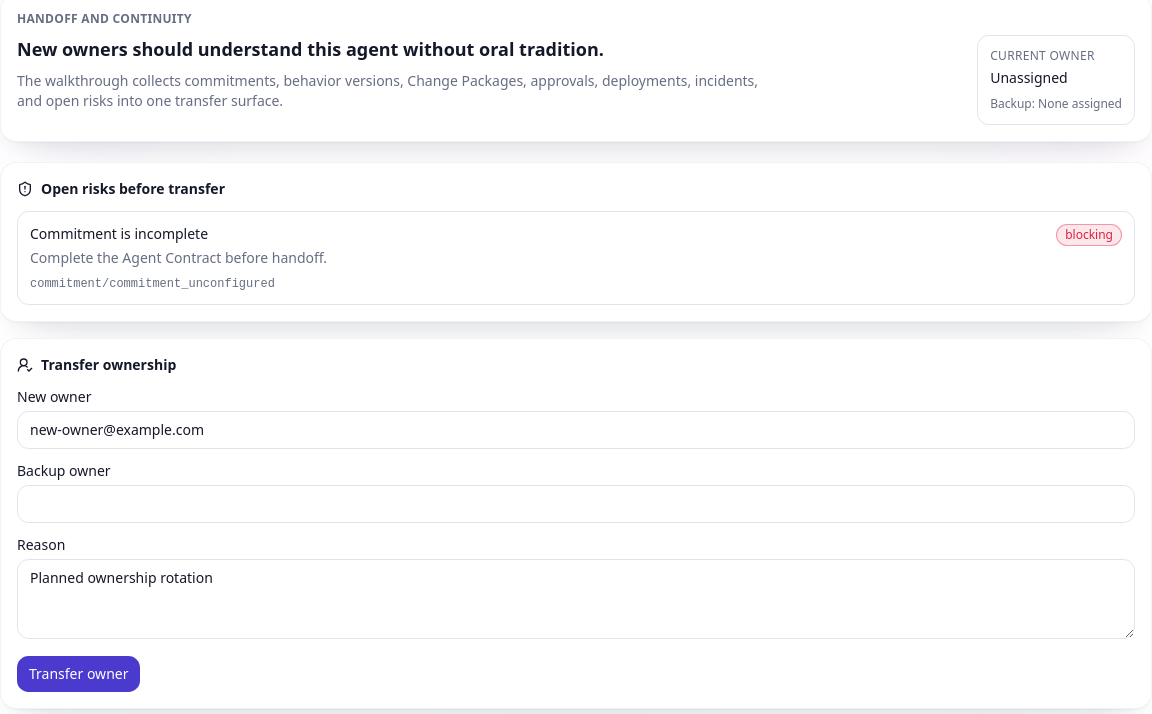
it: AgentHistoryWalkthrough › shows open risks, walkthrough sections, and transfers ownership
Expected: the text with test id "handoff-current-owner" reads "Unassigned", [990,68,1068,87]
Expected: the list item with test id "handoff-risk-commitment_missing_fields" is shown, [17,211,1135,305]
Replace the text in the field with test id "handoff-new-owner" with "new-owner@acme.test" at coordinates (576, 430), box [17,411,1135,449]
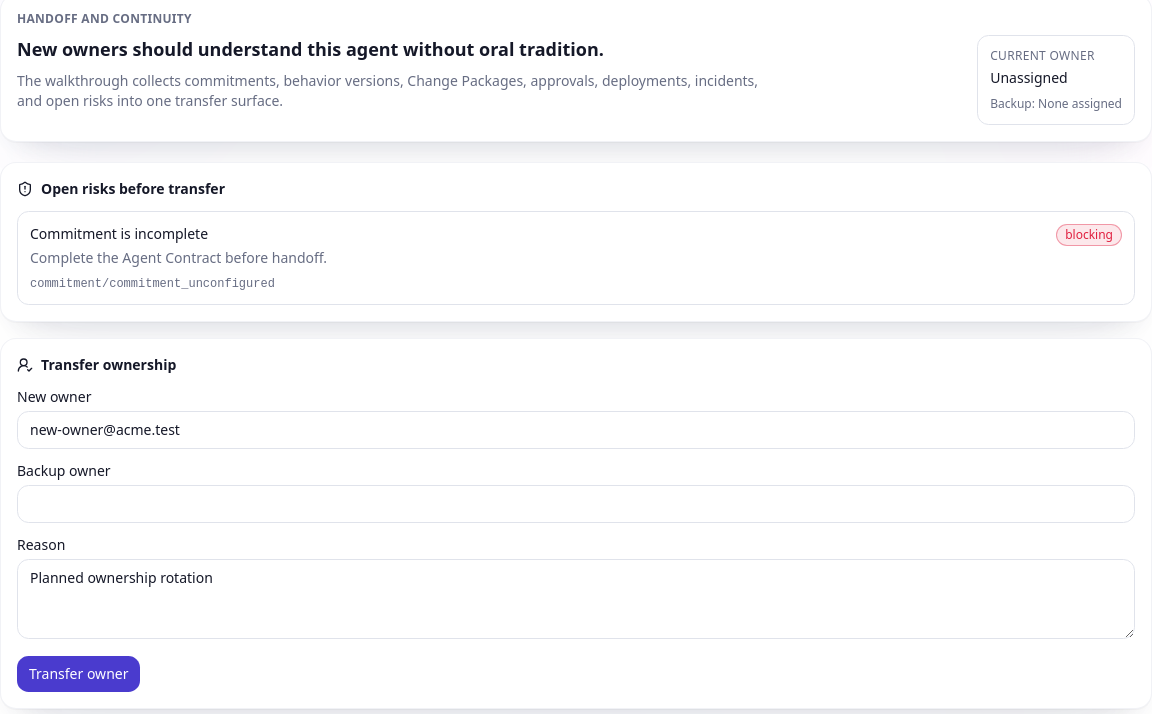
Type "backup@acme.test" into the field with test id "handoff-backup-owner".
click(576, 504); type("backup@acme.test")  # box [17,485,1135,523]
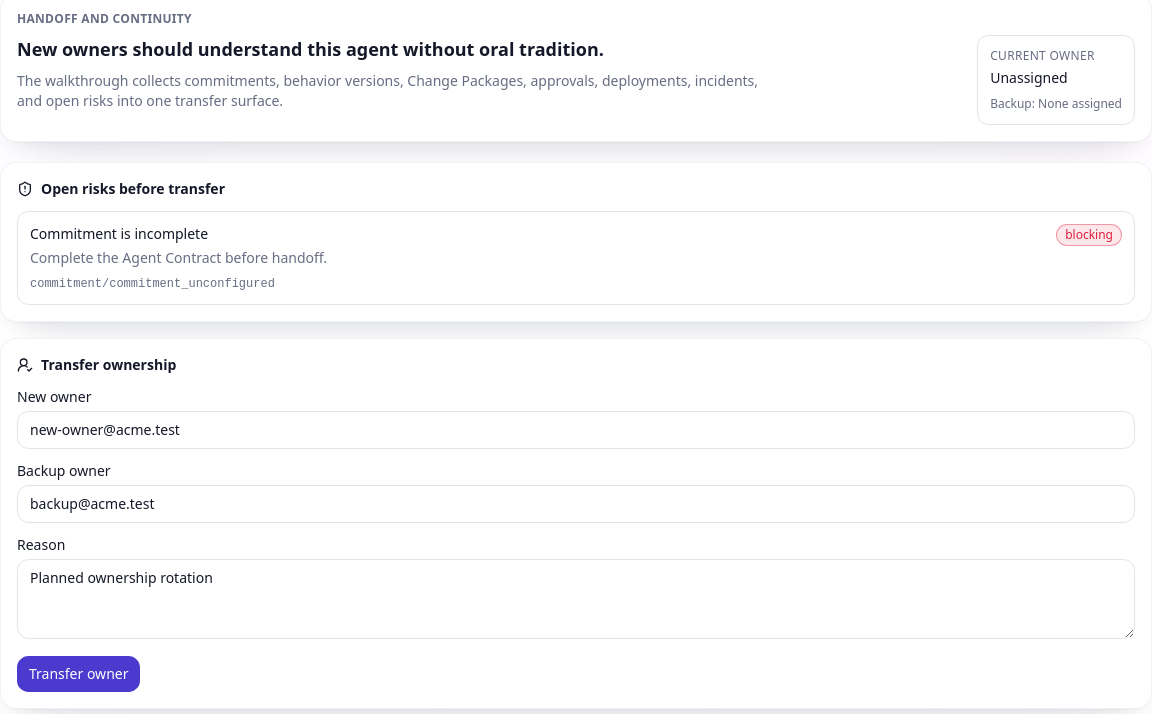
Click the button with test id "handoff-transfer".
click(79, 674)  # box [17,656,140,692]
(page scrolled)
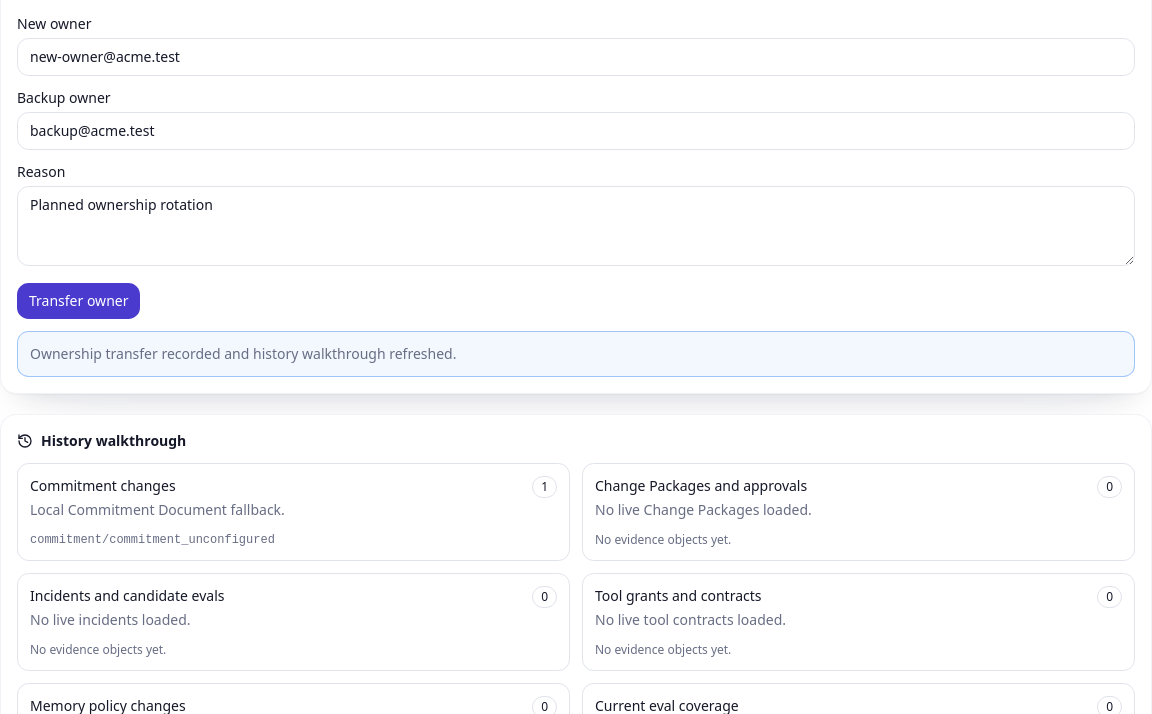
Expected: the message with test id "handoff-notice" shows "Ownership transfer recorded", [30,344,456,363]
